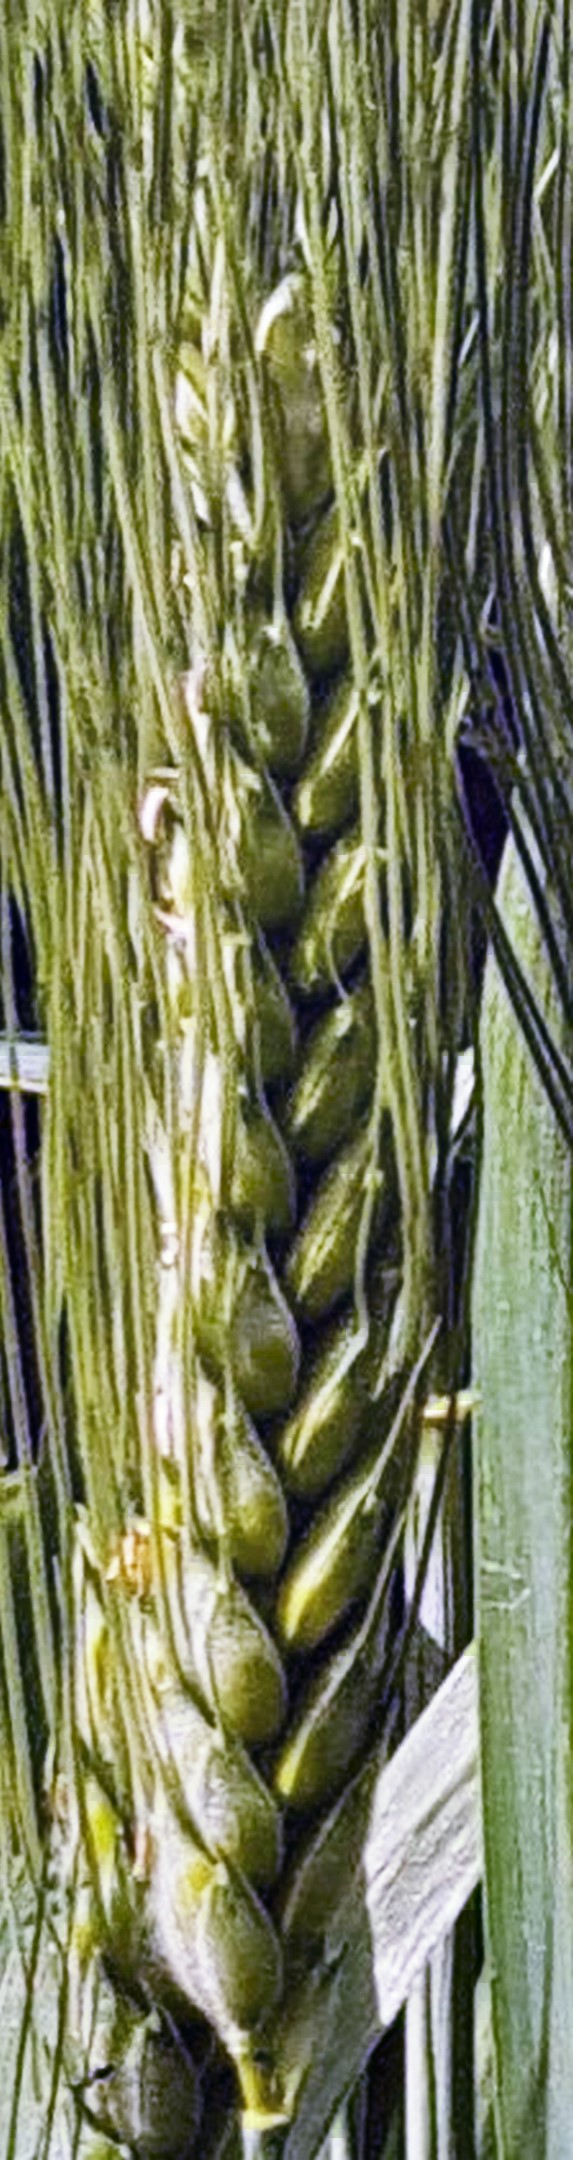Healthy Wheat: (69, 337, 485, 2042)
